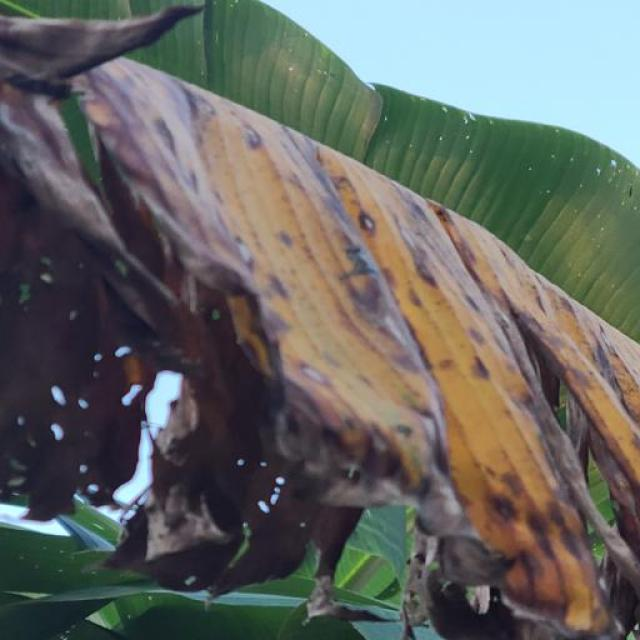Cordana: (60, 61, 640, 640)
